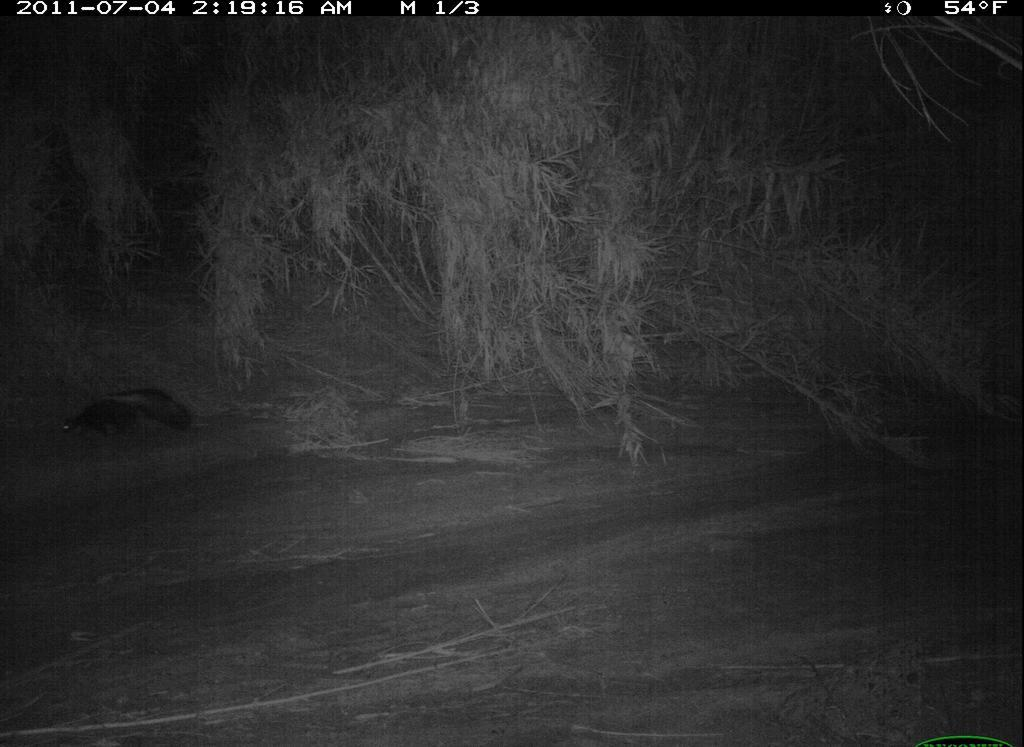skunk: (44, 379, 199, 450)
